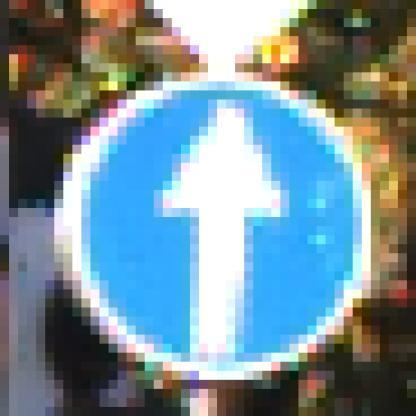straight: (45, 54, 398, 398)
